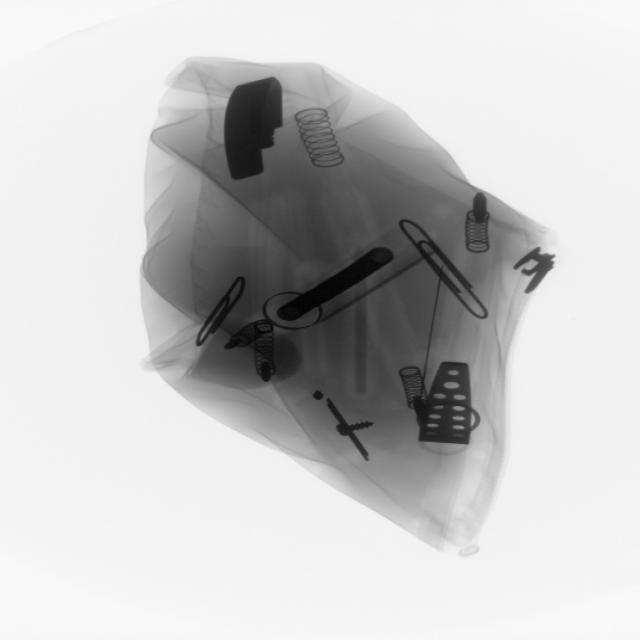SCREW: (324, 388, 370, 467)
